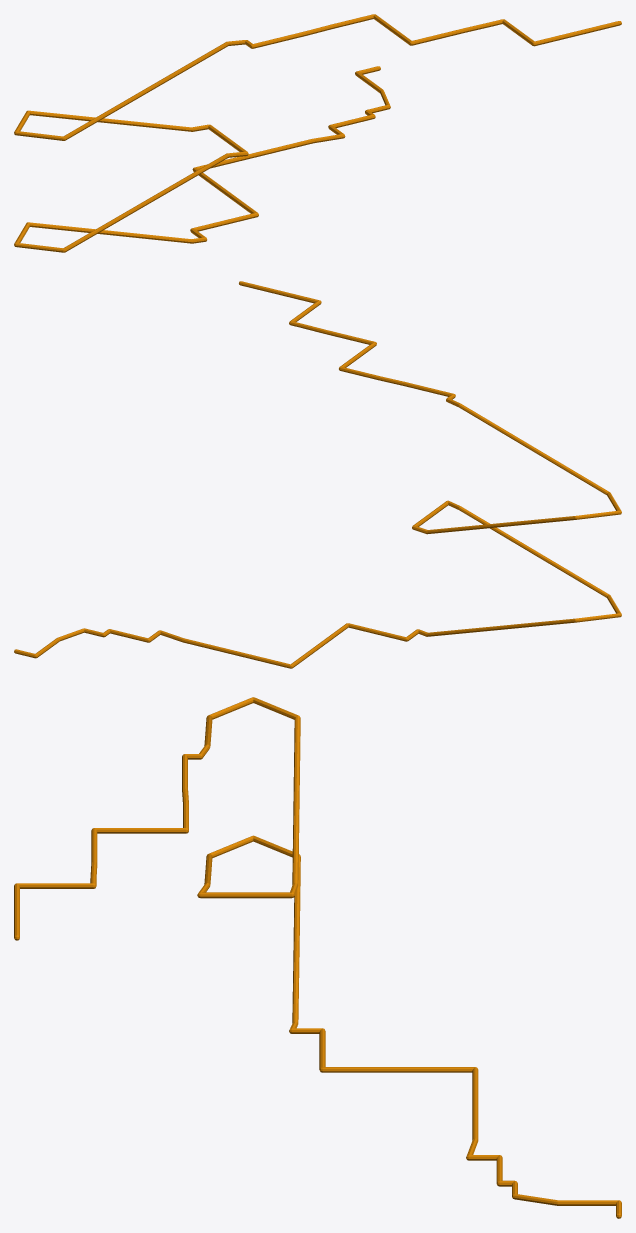
The picture shows the model from 3 angles, top to bottom: view 1: azimuth 30°, elevation 25°; view 2: azimuth 150°, elevation 25°; view 3: azimuth 270°, elevation 25°; orthographic projection. The views are drawn at different scales.
Size of the model in its own units: 2406 by 1020 by 1989.
